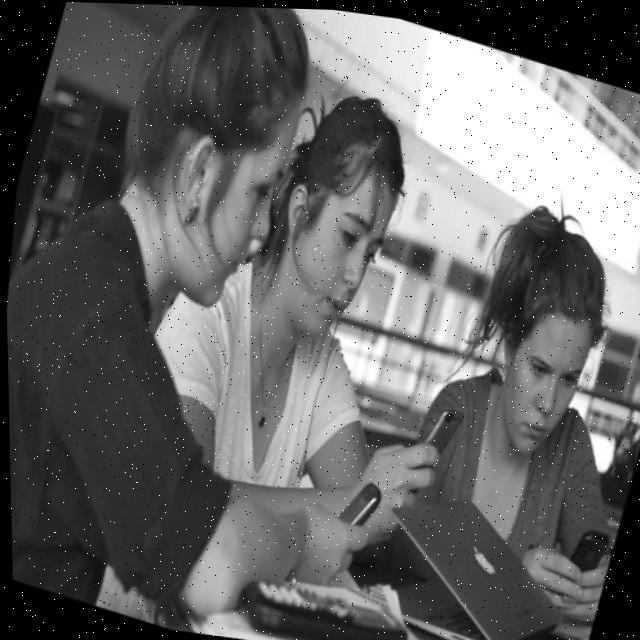phone: (414, 399, 465, 471), (332, 470, 384, 532), (562, 519, 610, 577)
